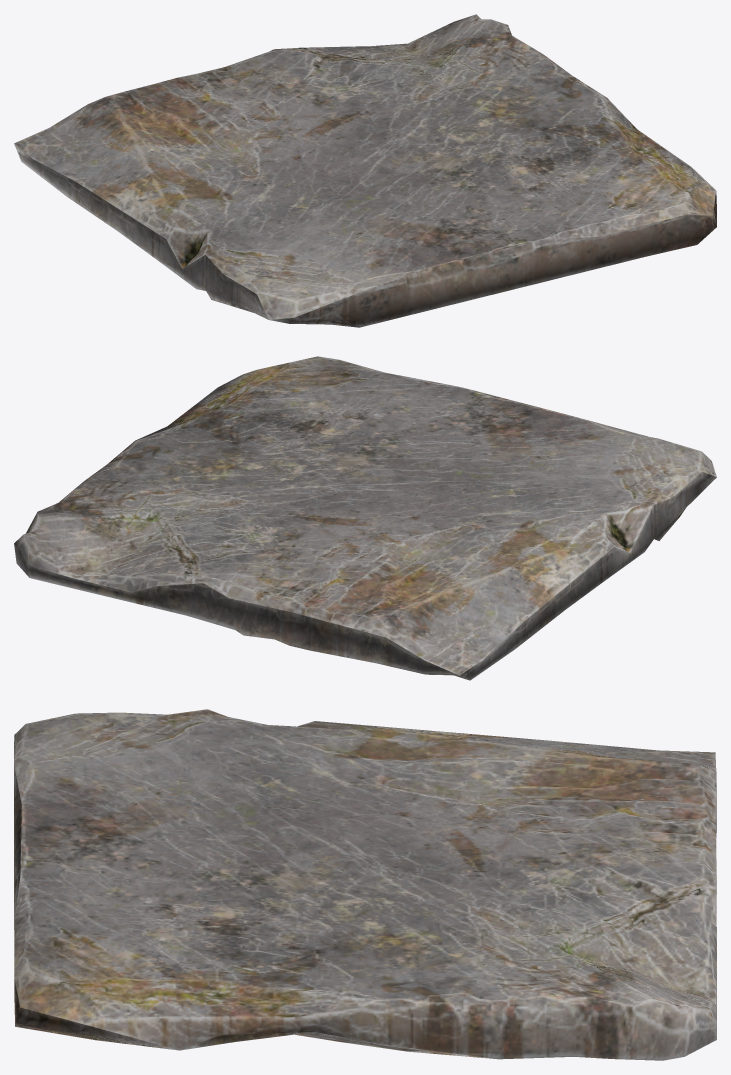
Rendered from SM_GroundPlate03.FBX.
3 views of the same model, one above another, from view 1: azimuth 30°, elevation 25°; view 2: azimuth 150°, elevation 25°; view 3: azimuth 270°, elevation 25° (orthographic). The views are drawn at different scales.
Parts seen in each view (by area): view 1: SM_GroundPlate03; view 2: SM_GroundPlate03; view 3: SM_GroundPlate03.
Part boxes in pixels (bbox=[...]): SM_GroundPlate03: bbox=[14, 14, 716, 327]; SM_GroundPlate03: bbox=[14, 356, 716, 680]; SM_GroundPlate03: bbox=[14, 709, 716, 1060].
Size of the model in its own units: 601 by 600 by 62.02.
